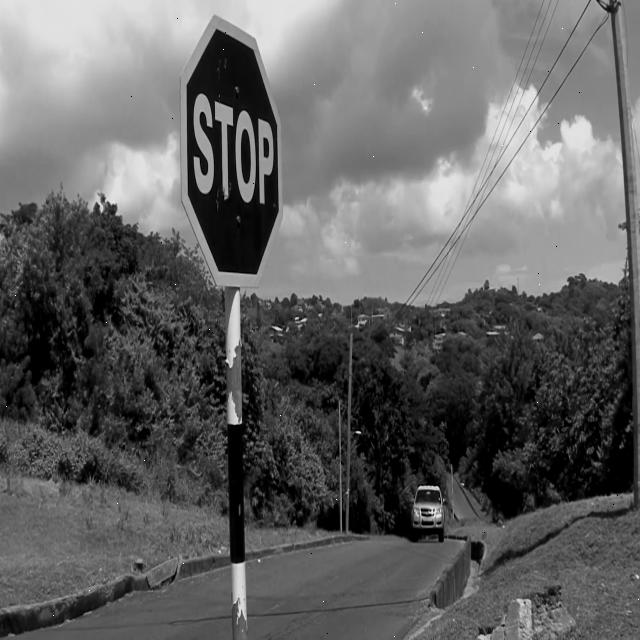Stop-sign: (168, 7, 292, 290)
